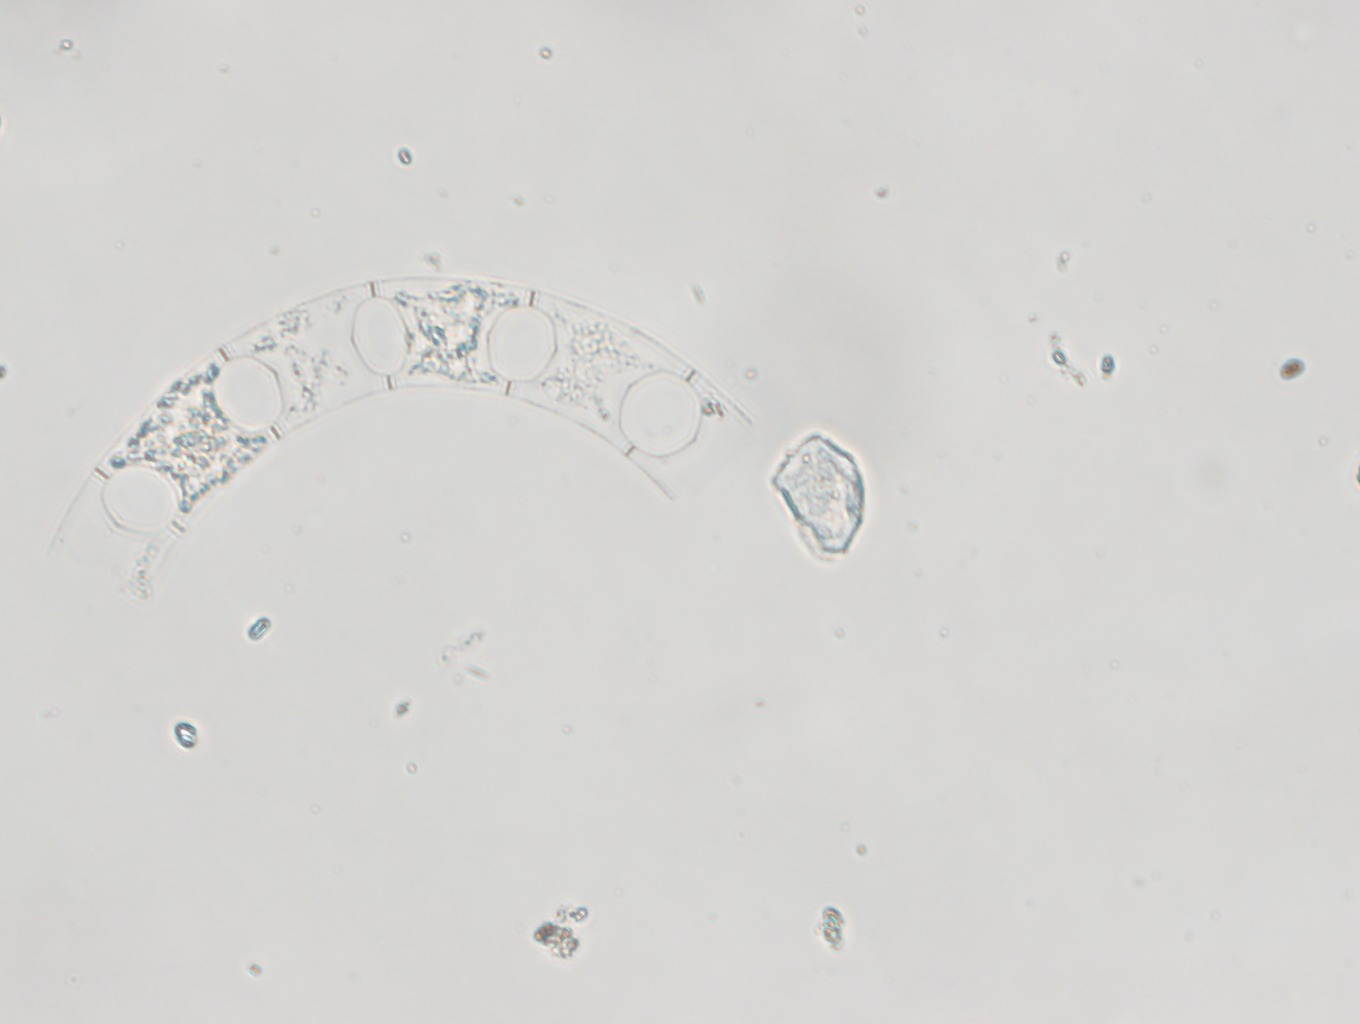eucampia: (48, 273, 770, 617)
